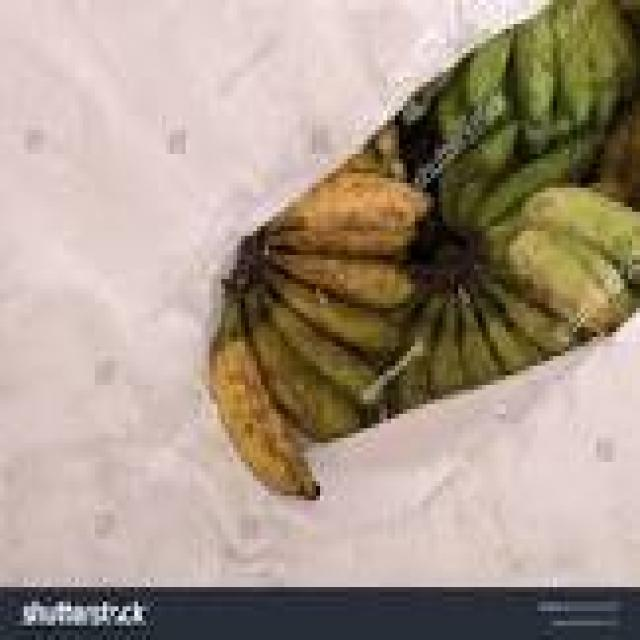banana: (210, 299, 319, 500), (245, 289, 363, 442), (506, 227, 628, 332), (265, 294, 379, 404), (265, 270, 402, 360), (475, 135, 600, 230), (522, 188, 639, 283), (273, 174, 430, 230), (439, 121, 517, 226), (273, 251, 414, 307), (482, 275, 576, 356), (392, 294, 446, 413), (514, 10, 557, 153), (554, 0, 596, 129), (475, 294, 541, 375), (269, 227, 418, 259), (467, 29, 513, 129), (597, 102, 639, 206), (459, 289, 501, 389), (431, 294, 466, 399), (435, 63, 470, 144)
